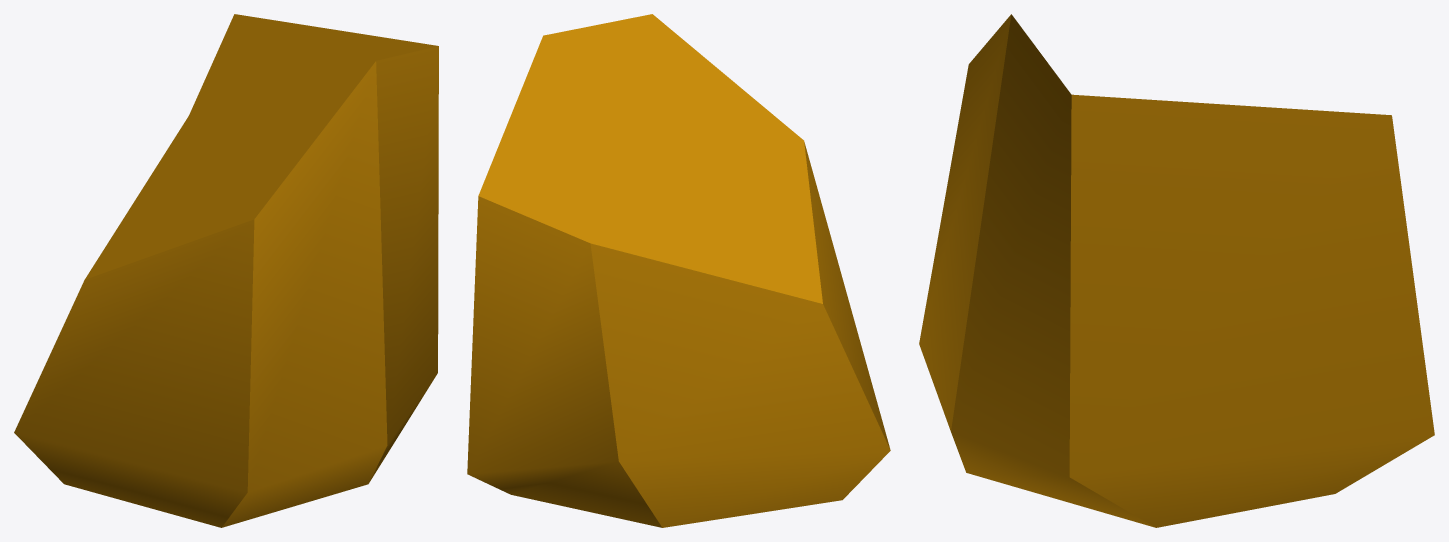
The model's file is Pierre_3.FBX.
3 renders of one model, left to right at view 1: azimuth 30°, elevation 25°; view 2: azimuth 150°, elevation 25°; view 3: azimuth 270°, elevation 25°, orthographic. The views are drawn at different scales.
Visible parts, largest first — view 1: Cone004; view 2: Cone004; view 3: Cone004.
Part boxes in pixels (box(x1,y1,x2,y2)): Cone004: box(14, 14, 438, 527); Cone004: box(467, 14, 890, 527); Cone004: box(919, 14, 1434, 527).
Size of the model in its own units: 103 by 101 by 99.73.
